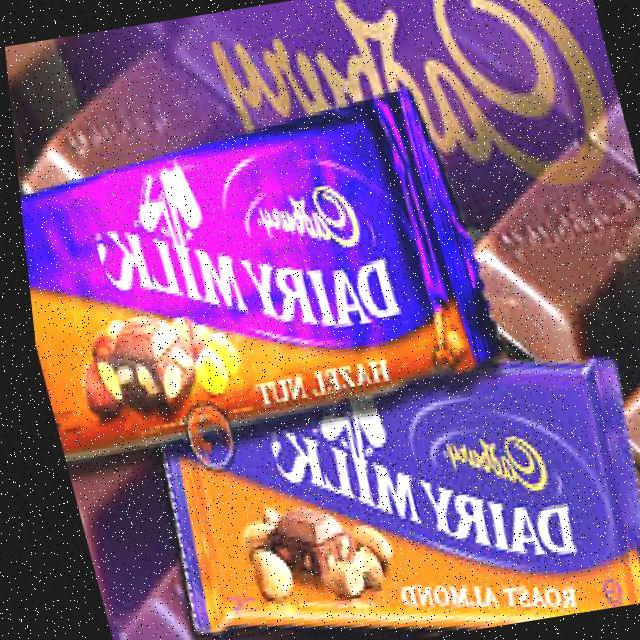cadbury_chocolate: (70, 103, 420, 427), (218, 370, 612, 620)
